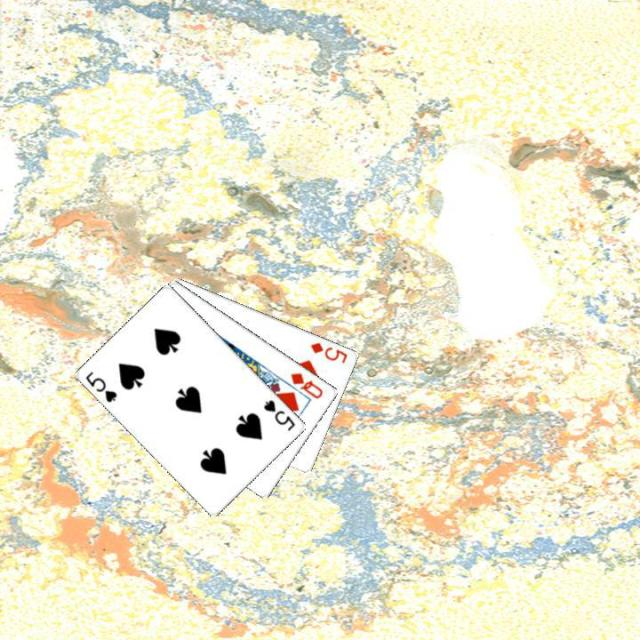5D: (307, 338, 349, 365)
5S: (260, 395, 298, 433), (82, 367, 119, 405)
QD: (287, 369, 325, 400)
